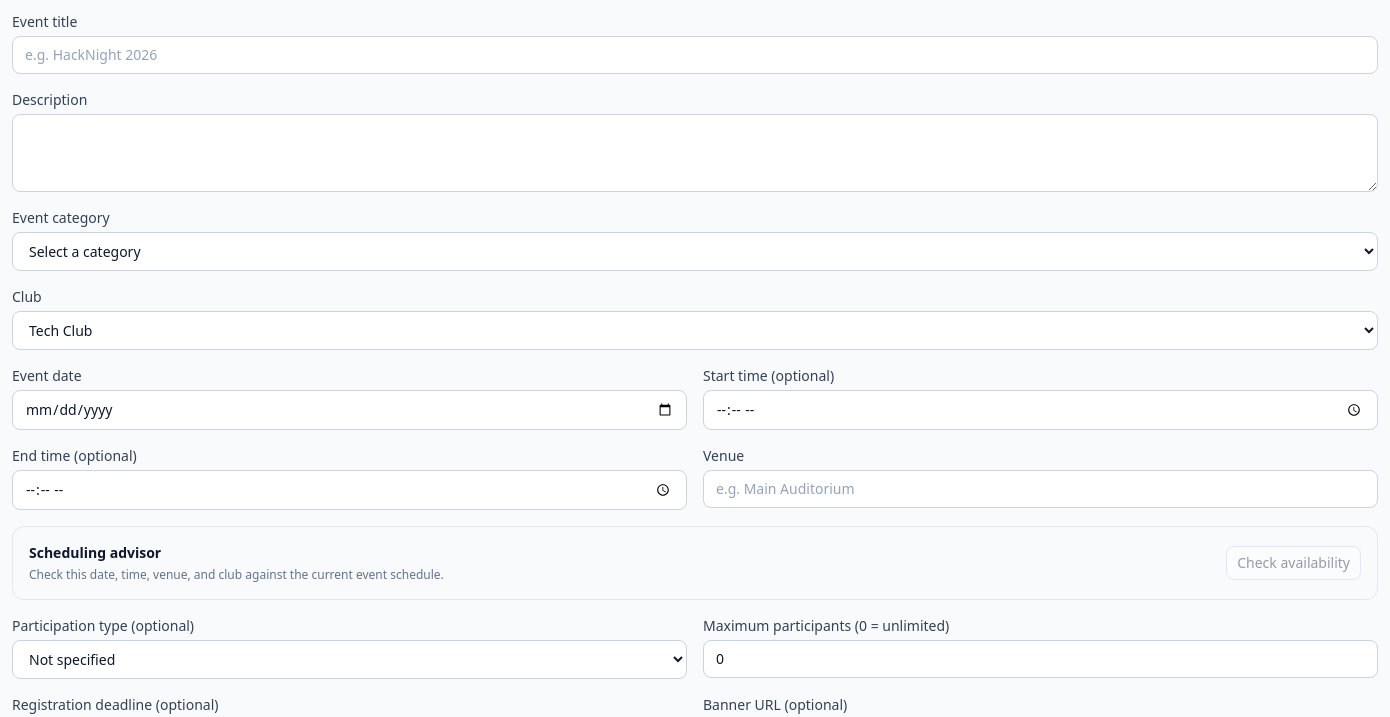
EventForm scheduling advisor › shows request failure as an error instead of no conflicts
The width and height of the screenshot is (1390, 717).
Type "2026-06-15" into the date field labelled "Event date".
click(350, 410); type("2026-06-15")  # box [12, 390, 687, 430]
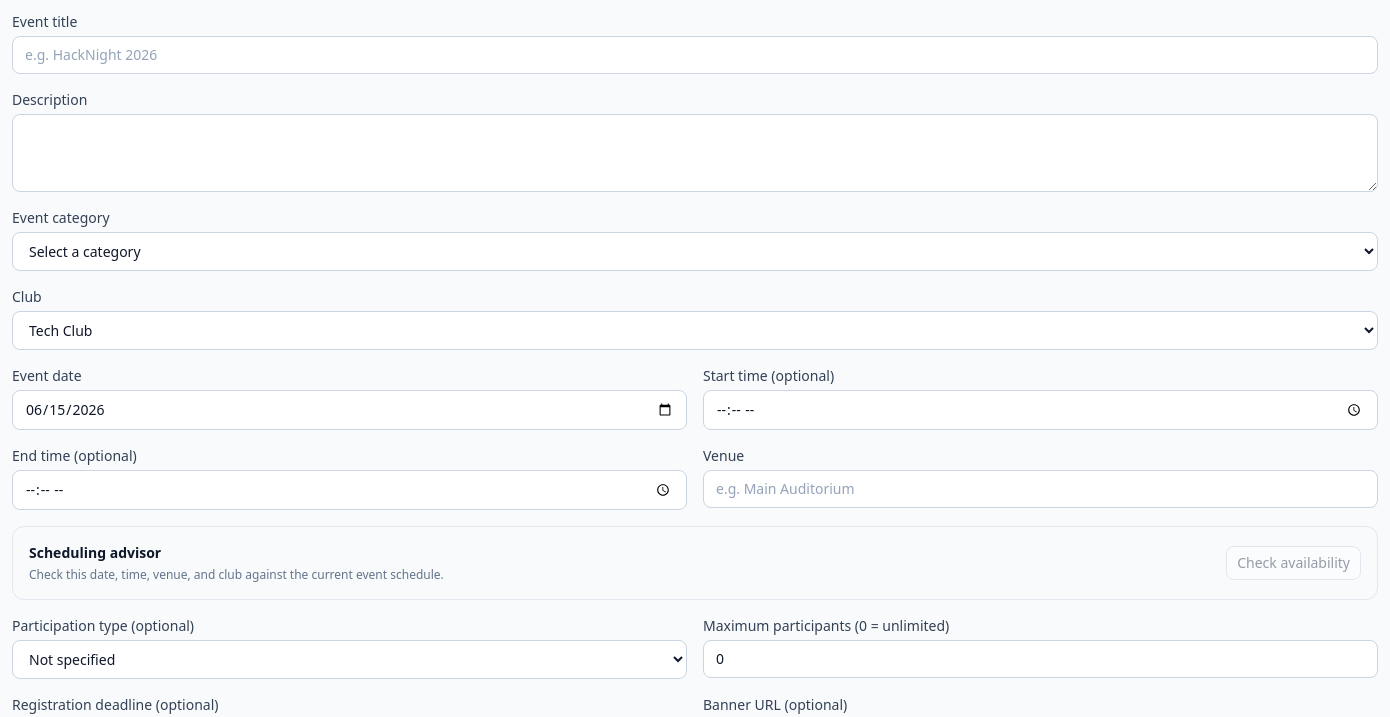
Type "10:00" into the time field labelled "Start time (optional)".
click(1040, 410); type("10:00")  # box [703, 390, 1378, 430]
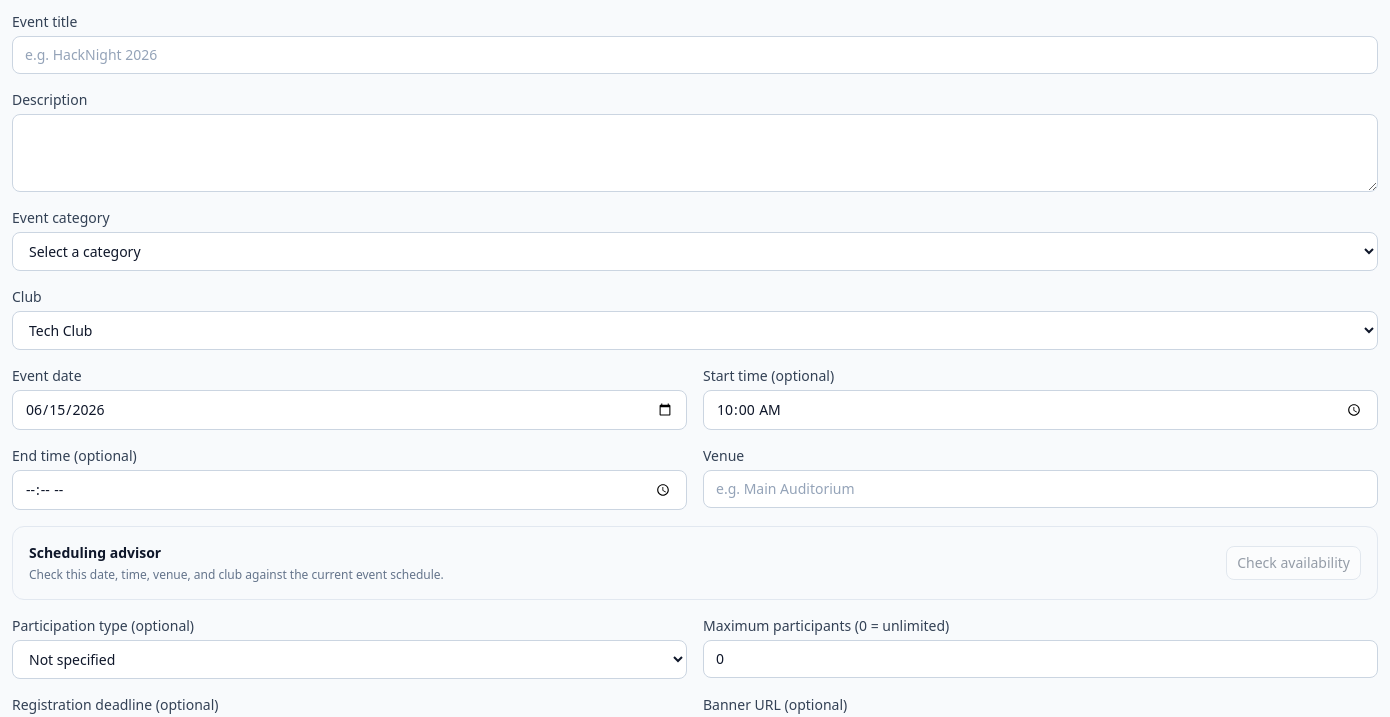
Type "11:00" into the time field labelled "End time (optional)".
click(350, 490); type("11:00")  # box [12, 470, 687, 510]
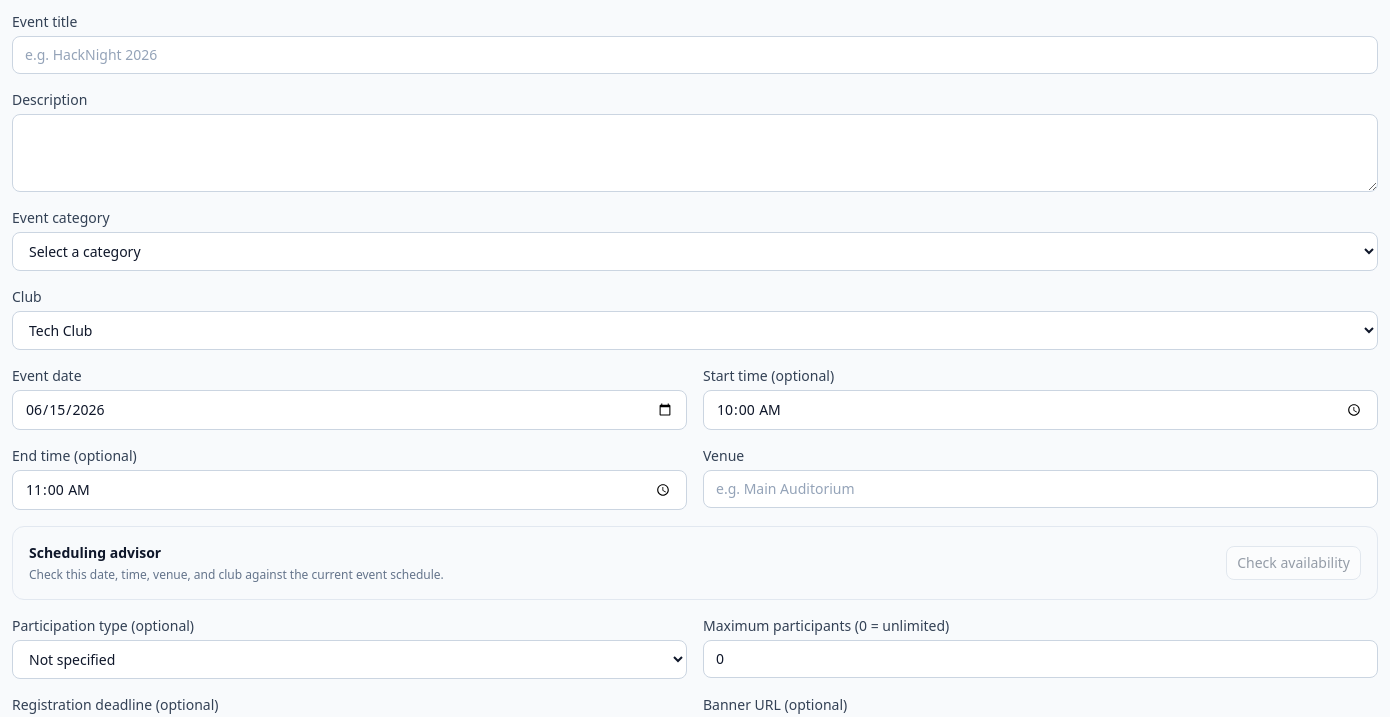
Type "Main Hall" into the field labelled "Venue".
click(1040, 489); type("Main Hall")  # box [703, 470, 1378, 508]
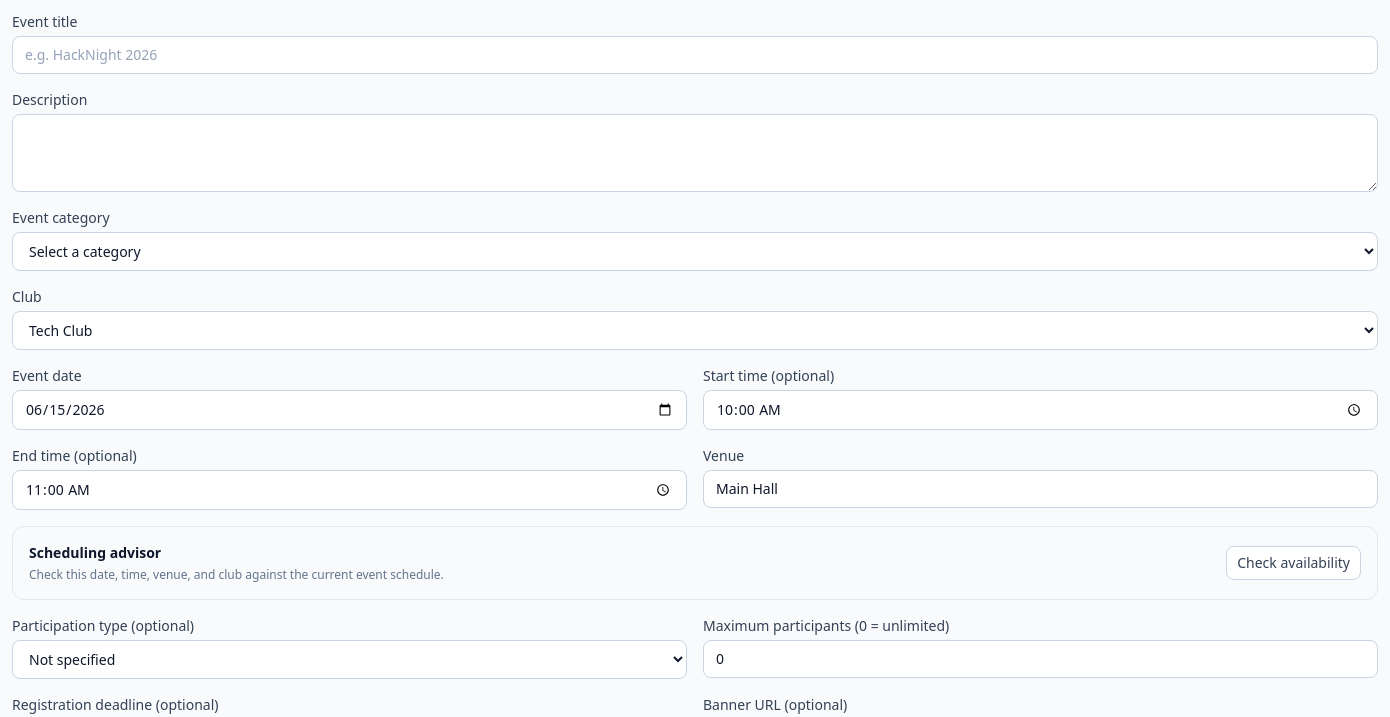
Click the button "Check availability".
click(1294, 563)  # box [1226, 546, 1361, 580]
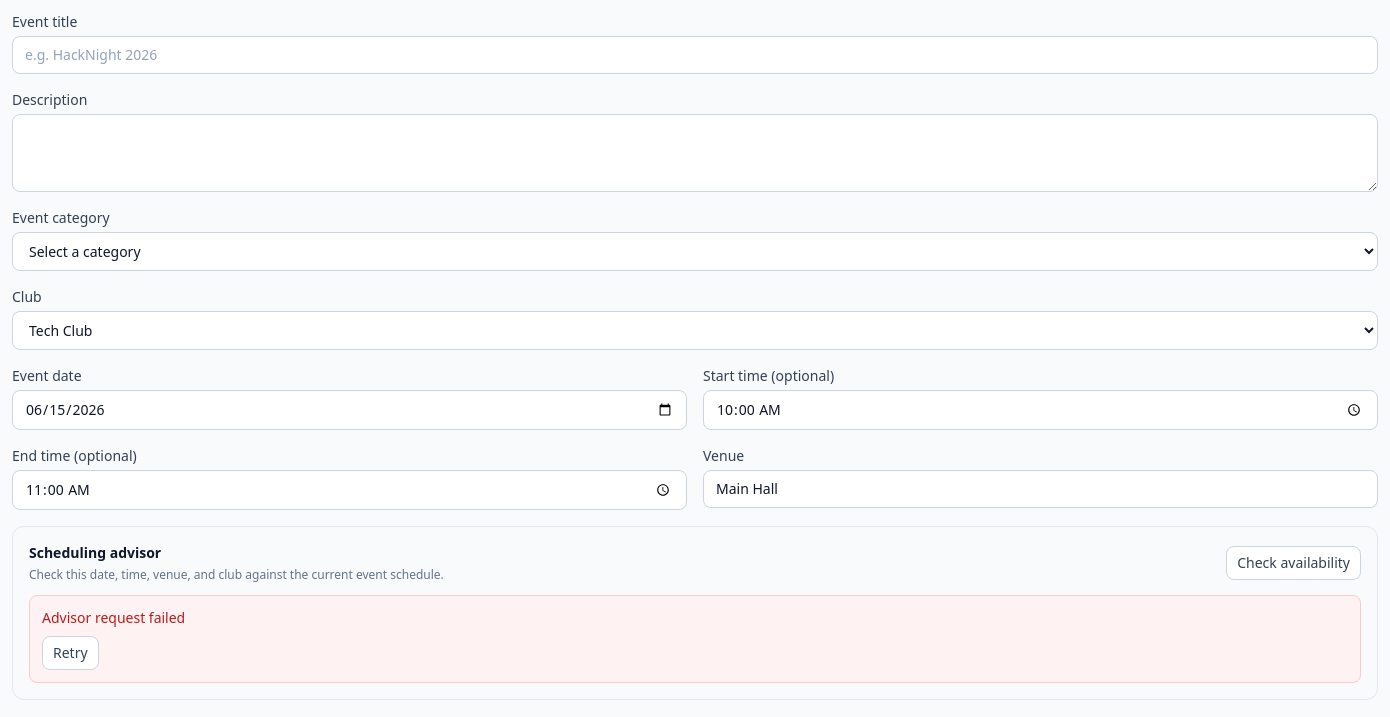
Now the message shows "Advisor request failed", box [42, 608, 185, 627]
